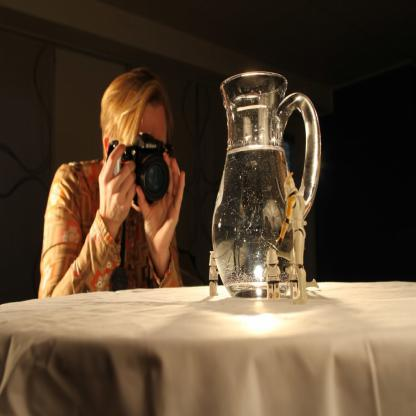Camera: (107, 129, 178, 204)
